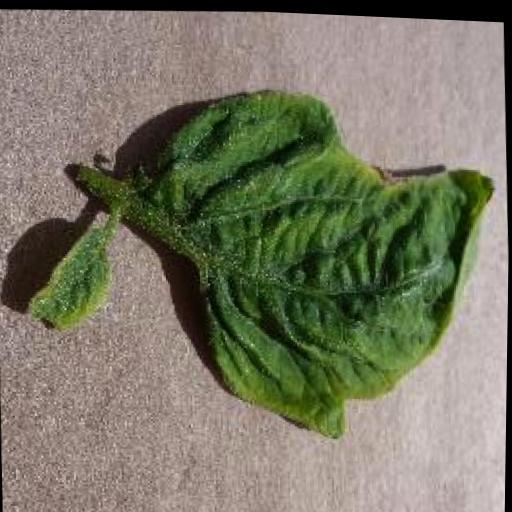Yellow Leaf Curl Virus: (143, 73, 503, 447)
